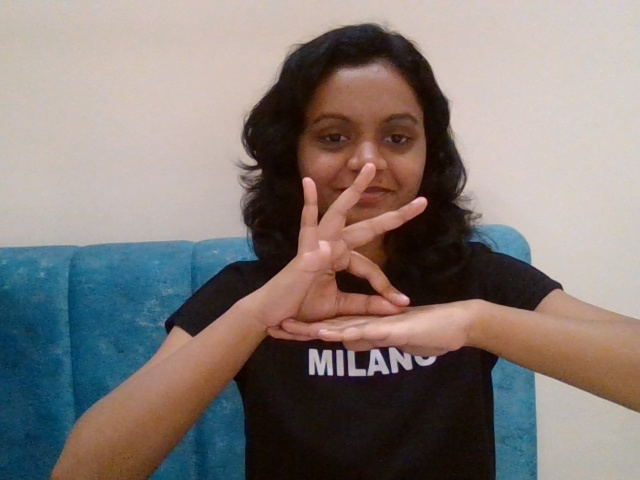How are you?: (201, 158, 503, 342)
